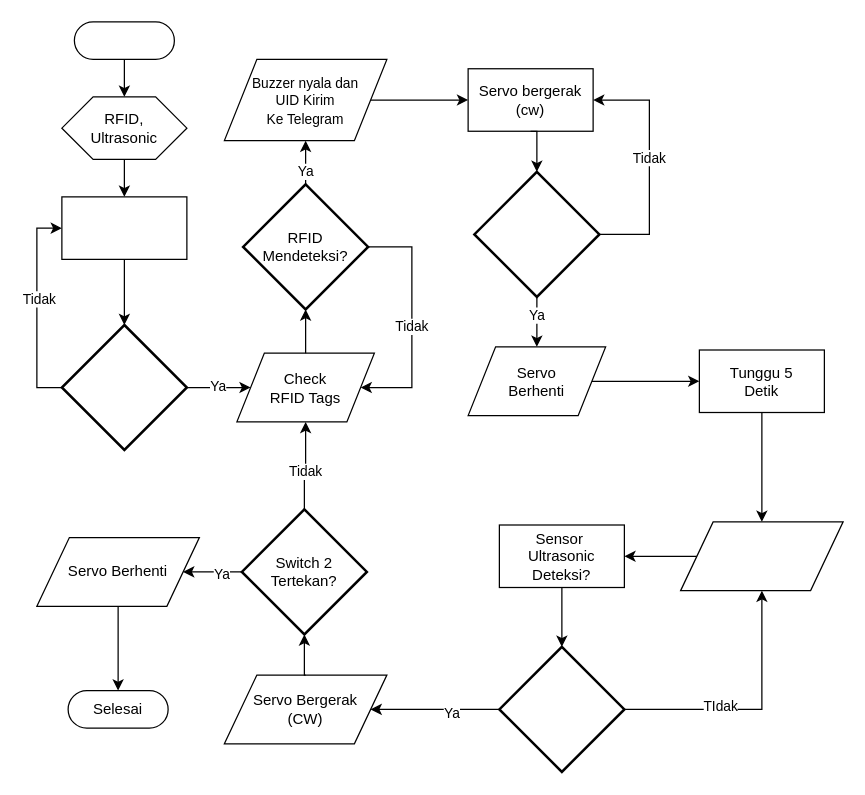
This 865x795 diagram has some shape labels left out. The centre of each missing label's shape, as x and y in pixels:
"Jarak ≤ 5 cm?" belongs at point 561,708.
"Mengubungkan Wifi" belongs at point 124,227.
"Mulai" belongs at point 123,40.
"Servo Bergerak (CCW)" belongs at point 761,556.
"Switch 1 Tertekan?" belongs at point 536,234.
"Wifi Terhubung?" belongs at point 124,387.
